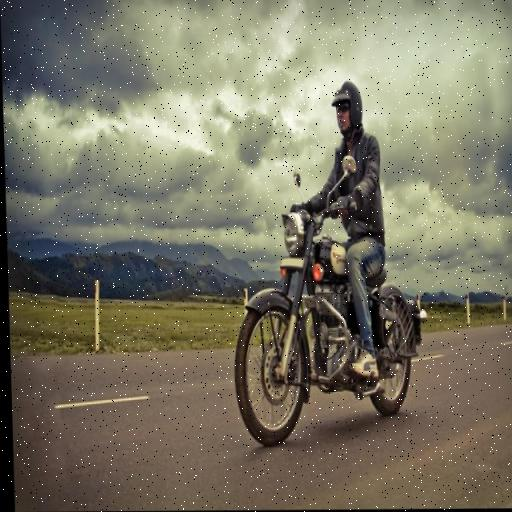Helmet: (329, 80, 367, 147)
Motor: (224, 164, 432, 460)
